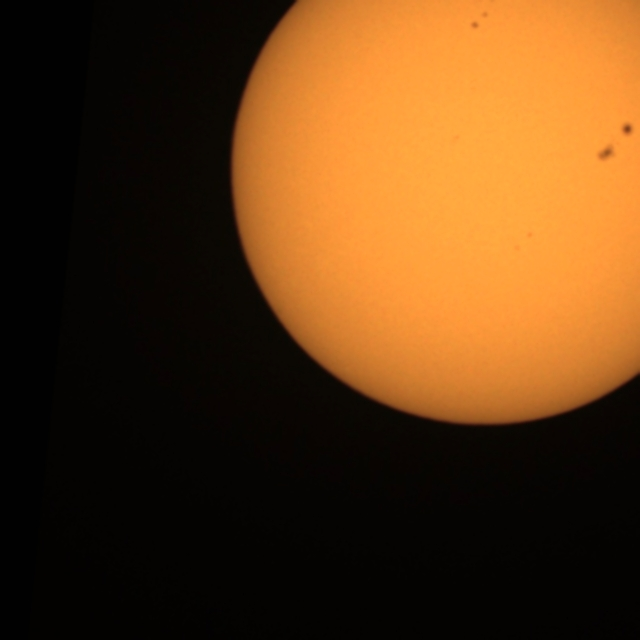sunspot: (594, 121, 634, 167), (468, 9, 492, 33), (594, 142, 618, 165), (618, 120, 636, 139), (524, 229, 536, 241)
